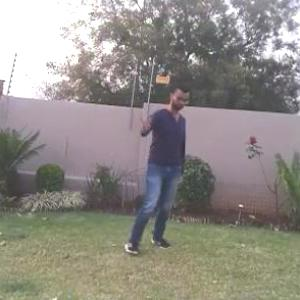takeoff-hand: (131, 102, 154, 134)
